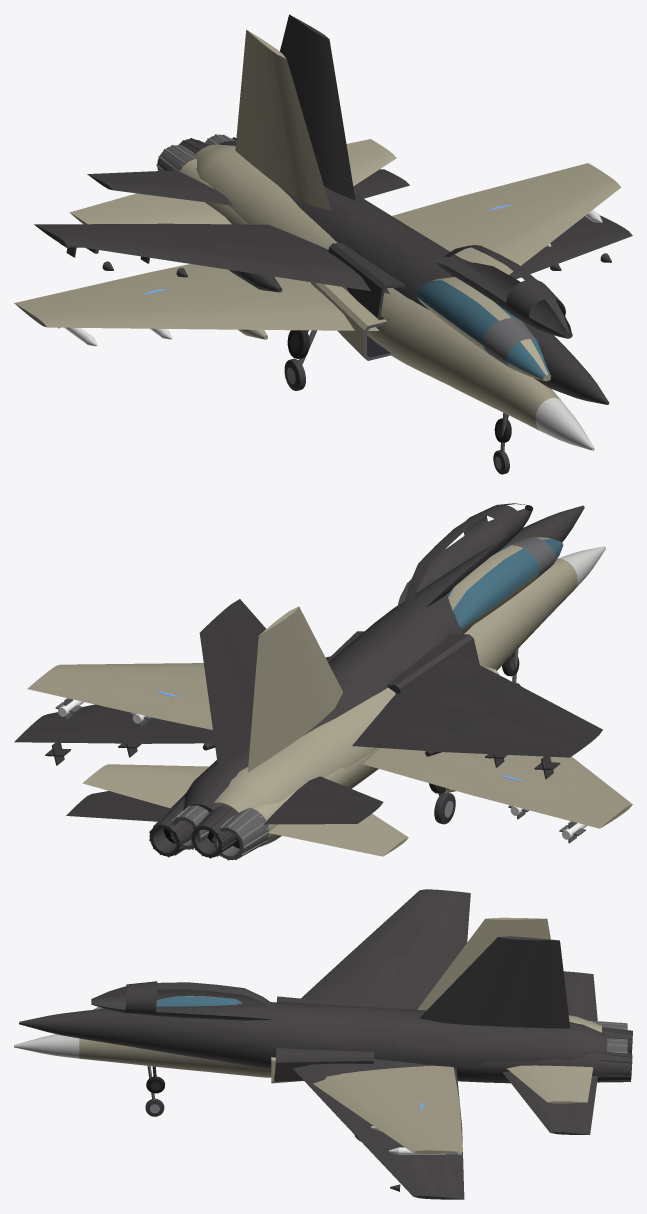
Rendered from ewJet__tornado_ecr.glb.
3 renders of one model, top to bottom at view 1: azimuth 30°, elevation 25°; view 2: azimuth 150°, elevation 25°; view 3: azimuth 270°, elevation 25°, orthographic. The views are drawn at different scales.
Visible parts, largest first — view 1: Fuselage_Mesh, Wreck; view 2: Fuselage_Mesh, Wreck; view 3: Wreck, Fuselage_Mesh.
Part boxes in pixels (x1,y1,x2,y2): Fuselage_Mesh: [14, 29, 621, 474]; Wreck: [34, 14, 632, 442]; Fuselage_Mesh: [27, 537, 632, 860]; Wreck: [14, 503, 602, 858]; Wreck: [19, 889, 632, 1199]; Fuselage_Mesh: [14, 917, 627, 1158].
Size of what is drawn, in the model's own units: 14.22 by 5.98 by 16.9.
